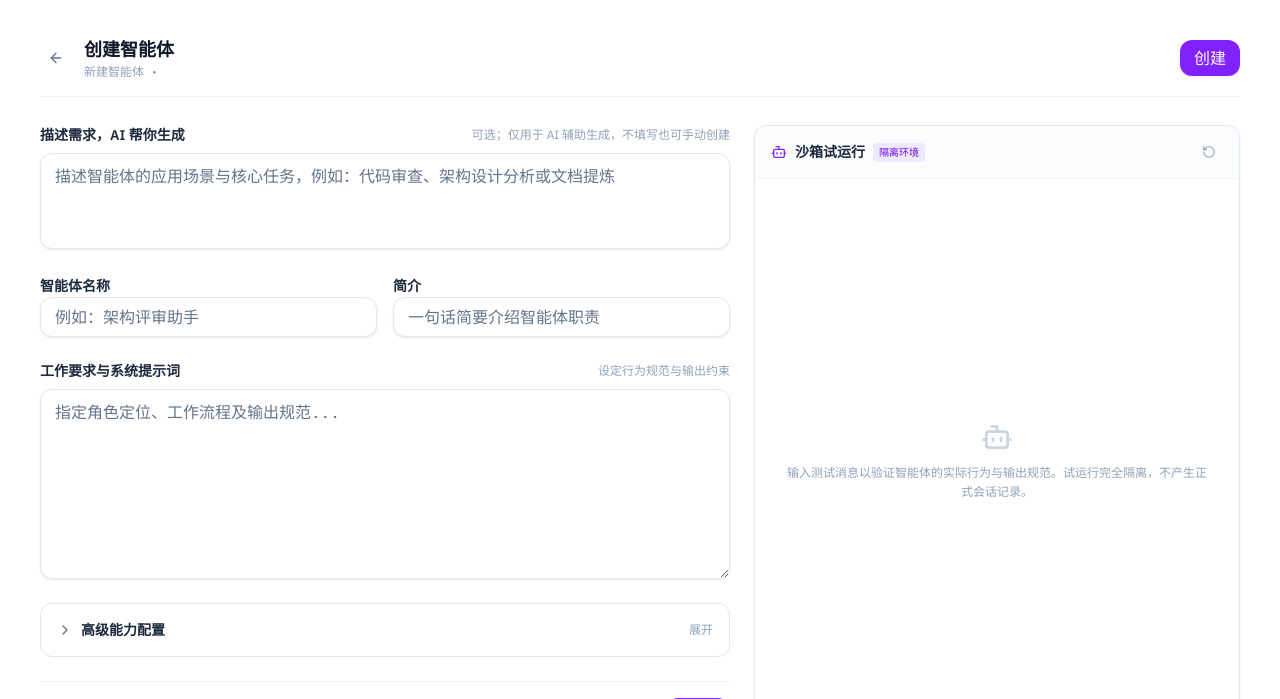
Test: AgentCreationPage › displays blocking error issues if checkDraft returns errors
Type "简单用途" into the text box with placeholder "描述智能体的应用场景与核心任务，例如：代码审查、架构设计分析或文档提炼".
click(385, 201); type("简单用途")  # box [40, 153, 730, 249]
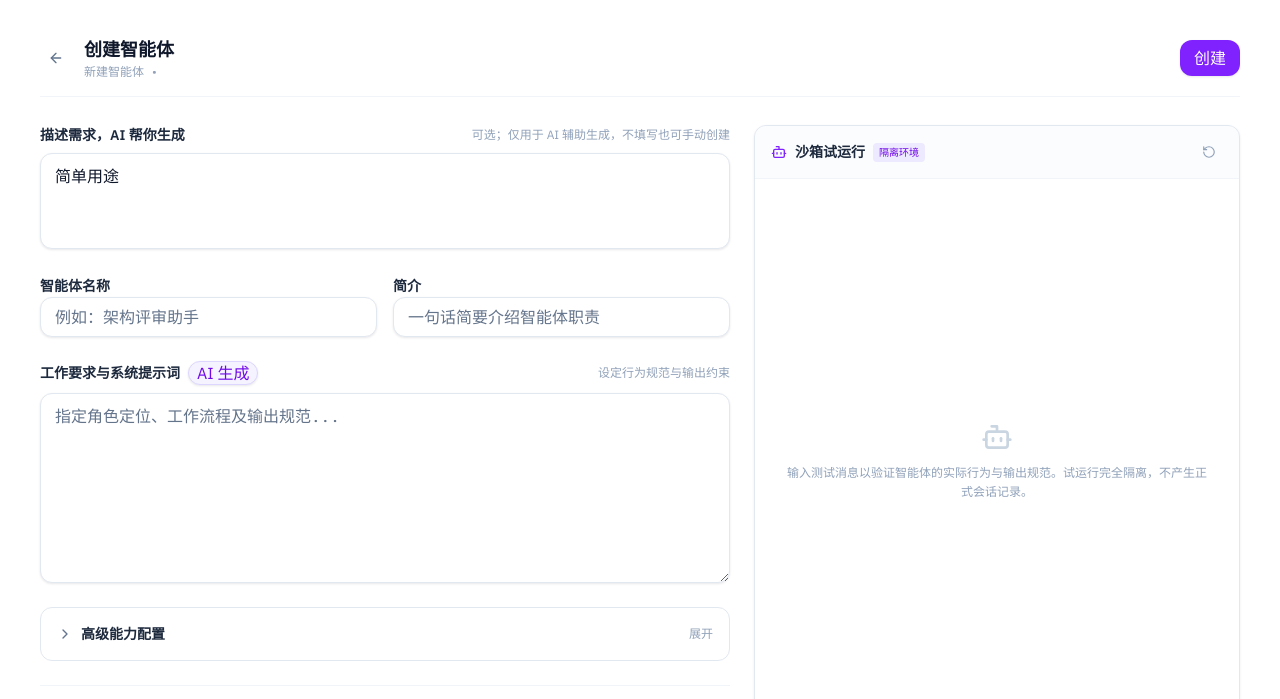
Click the button "创建" in the row of "创建智能体".
click(1210, 58)  # box [1180, 40, 1240, 76]
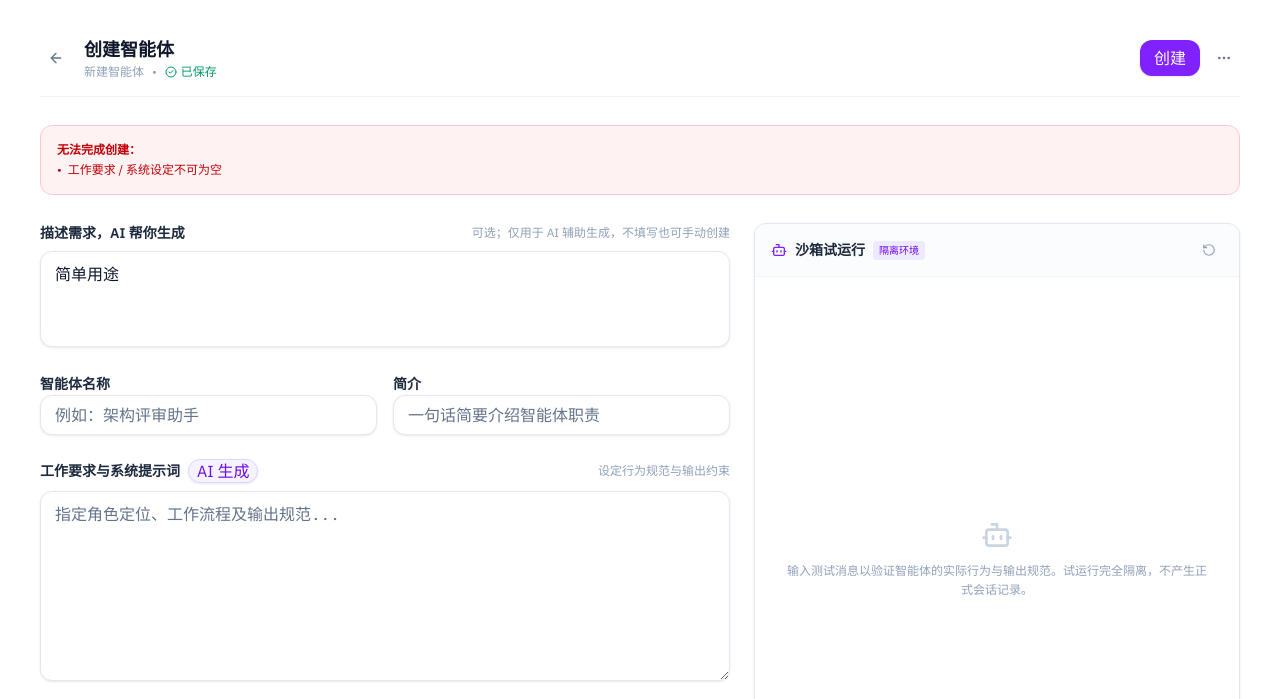
Expected: the text "无法完成创建：" is shown, [57, 142, 141, 157]
Expected: the text "工作要求 / 系统设定不可为空" is shown, [68, 162, 222, 178]
